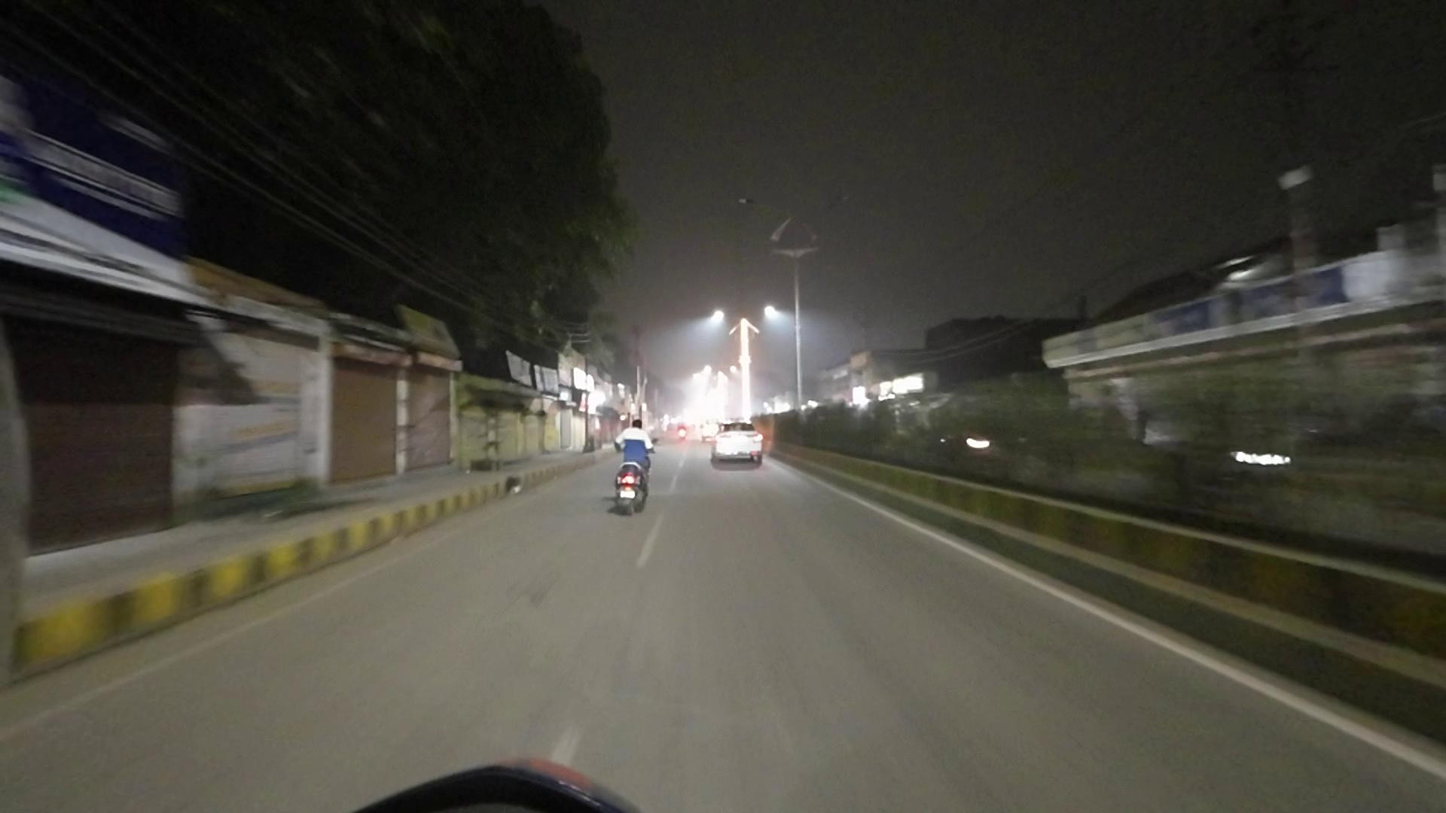streetlight: (737, 192, 781, 211), (806, 193, 851, 209)
